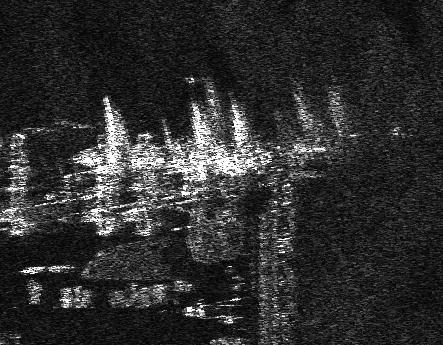ship: (67, 130, 279, 180)
